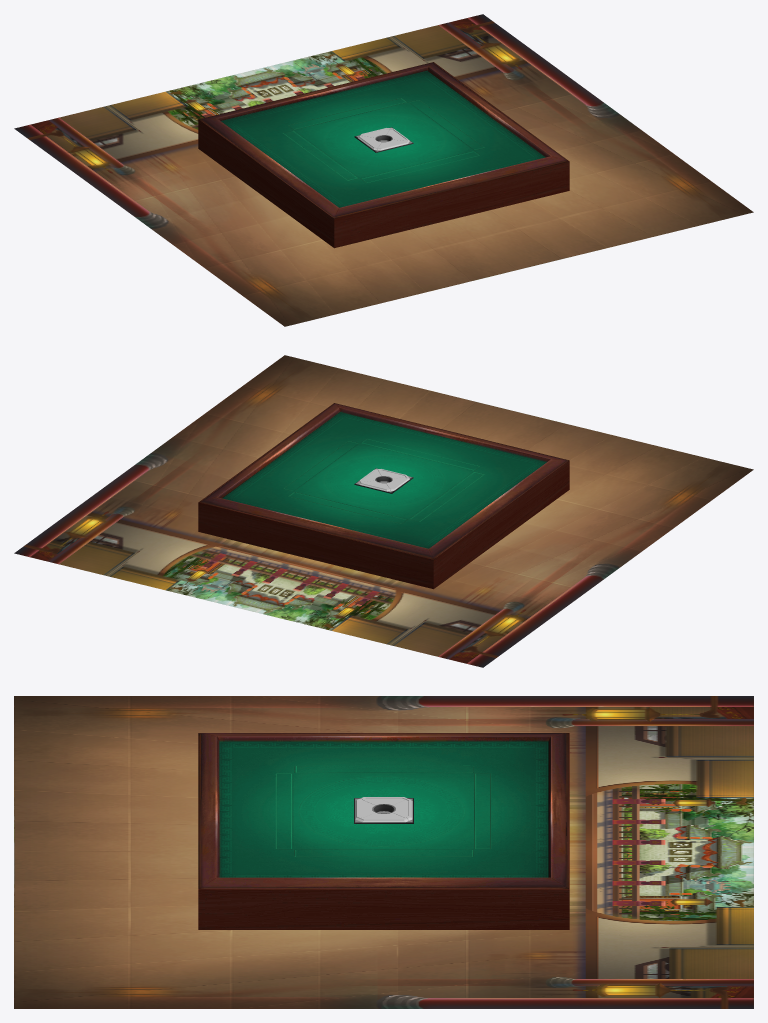
File: Desk_new_2017_3_7.fbx
3 renders of one model, top to bottom at view 1: azimuth 30°, elevation 25°; view 2: azimuth 150°, elevation 25°; view 3: azimuth 270°, elevation 25°, orthographic. The views are drawn at different scales.
Visible parts, largest first — view 1: Carpet, MahjongTable, MahjongTable_Lift_TB, MahjongTable_Lift_LR; view 2: Carpet, MahjongTable, MahjongTable_Lift_TB, MahjongTable_Lift_LR; view 3: Carpet, MahjongTable, MahjongTable_Lift_TB, MahjongTable_Lift_LR.
Boxes of the visible parts, bbox=[...] form: Carpet: bbox=[14, 14, 753, 326]; MahjongTable: bbox=[198, 62, 569, 248]; MahjongTable_Lift_TB: bbox=[288, 98, 479, 182]; MahjongTable_Lift_LR: bbox=[283, 100, 483, 180]; Carpet: bbox=[14, 355, 753, 667]; MahjongTable: bbox=[198, 403, 569, 589]; MahjongTable_Lift_TB: bbox=[288, 439, 479, 523]; MahjongTable_Lift_LR: bbox=[284, 441, 484, 521]; Carpet: bbox=[14, 696, 753, 1008]; MahjongTable: bbox=[198, 733, 569, 929]; MahjongTable_Lift_TB: bbox=[276, 773, 491, 848]; MahjongTable_Lift_LR: bbox=[295, 766, 472, 856].
Size of the model in its own units: 0.0576 by 0.0039 by 0.0576.
